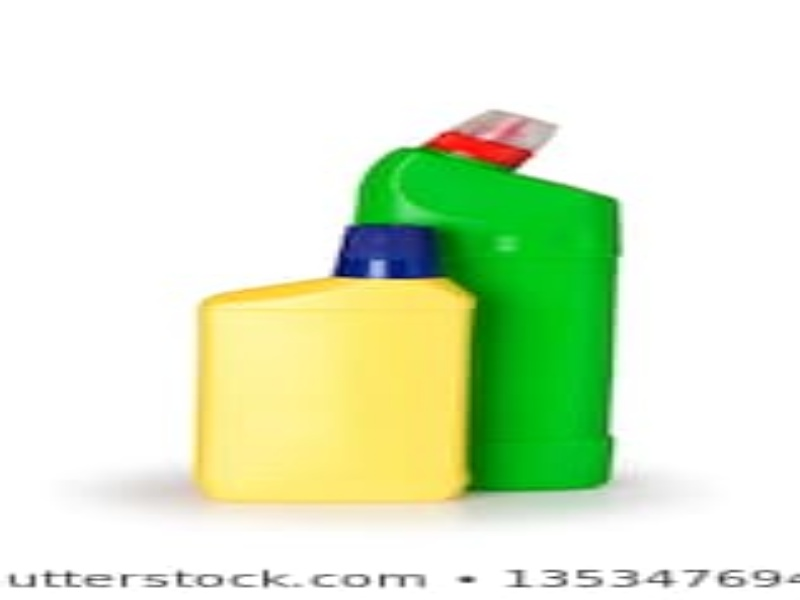bottle-cap: (331, 221, 447, 280)
detergent-bottle: (356, 108, 636, 489), (189, 223, 487, 508)
